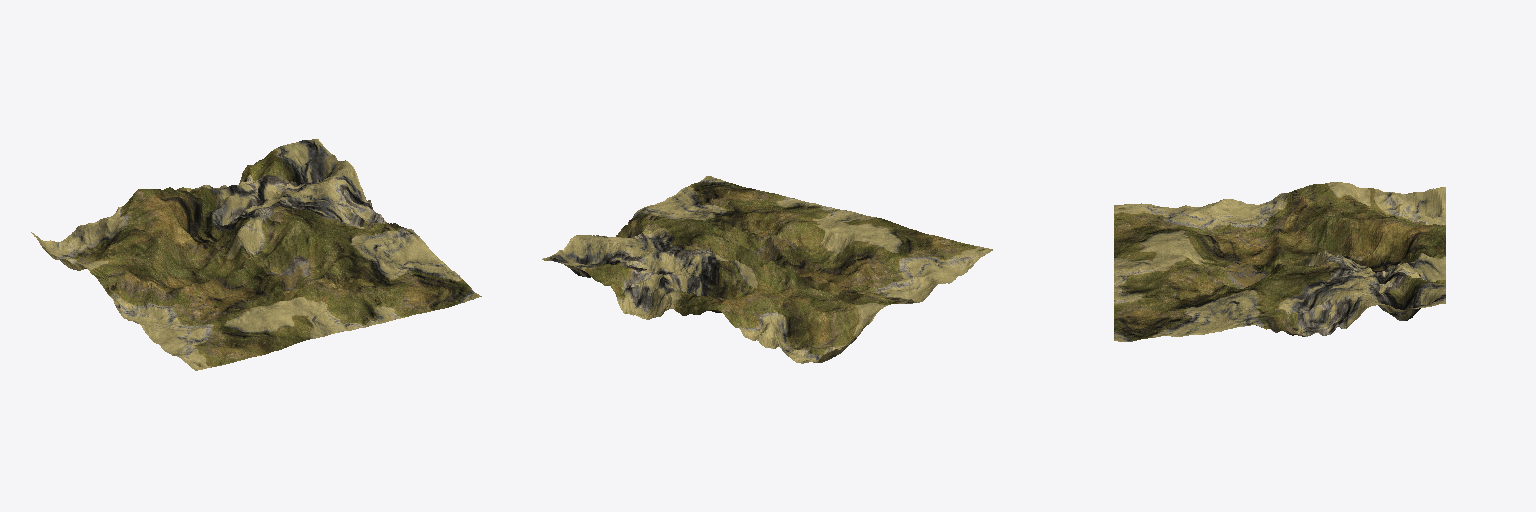
3 renders of one model, left to right at view 1: azimuth 30°, elevation 25°; view 2: azimuth 150°, elevation 25°; view 3: azimuth 270°, elevation 25°, orthographic.
Visible parts, largest first — view 1: Terrain_50000; view 2: Terrain_50000; view 3: Terrain_50000.
Part boxes in pixels (left/top/right/bottom): Terrain_50000: left=31, top=139, right=481, bottom=370; Terrain_50000: left=542, top=176, right=992, bottom=363; Terrain_50000: left=1114, top=182, right=1445, bottom=341.
Bounding box in the file's own units: 159 × 24.64 × 159.
1 materials, 1 textured.